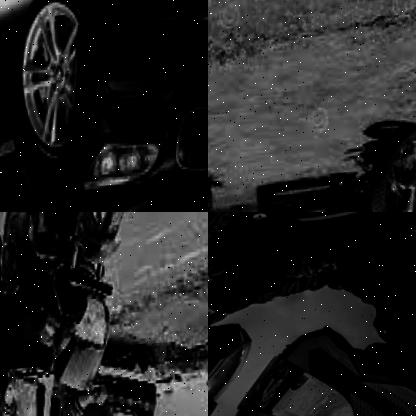bike: (208, 212, 416, 416), (0, 212, 151, 408), (334, 119, 416, 212), (193, 322, 208, 416)
car: (58, 355, 155, 416), (243, 177, 354, 212)
